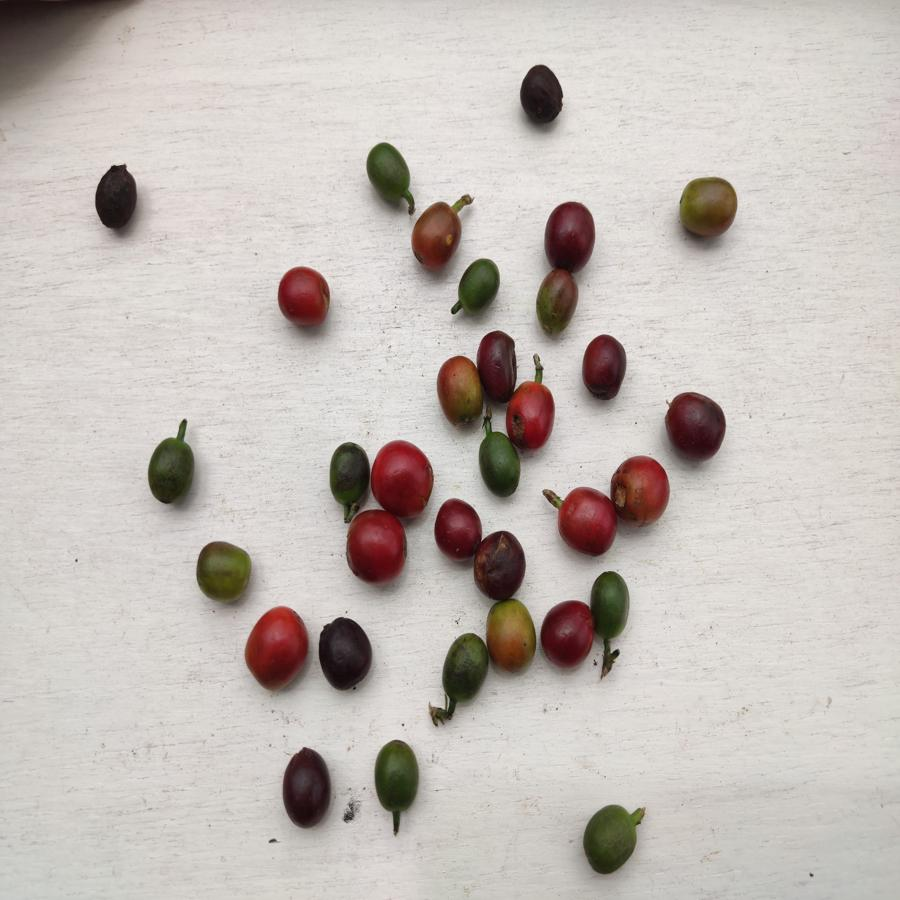Inmaduro: (579, 804, 643, 875), (370, 739, 426, 815), (360, 141, 415, 209), (441, 633, 489, 702), (148, 438, 196, 505), (590, 570, 635, 640), (476, 431, 516, 500), (456, 257, 502, 317), (328, 441, 369, 506)
Maduro: (244, 606, 310, 691), (369, 437, 434, 520), (609, 451, 672, 528), (346, 506, 408, 583), (553, 487, 619, 556), (272, 264, 335, 332), (508, 379, 559, 453)
Pinton: (679, 172, 741, 241), (193, 539, 254, 603), (487, 599, 540, 672), (411, 202, 460, 267), (437, 352, 480, 425), (533, 271, 580, 335)
Sobremaduro: (317, 614, 377, 694), (665, 391, 727, 459), (283, 745, 330, 831), (544, 203, 599, 272), (542, 599, 593, 673), (475, 531, 526, 603), (477, 327, 521, 404), (582, 331, 627, 403), (433, 496, 482, 561), (93, 167, 139, 234), (521, 63, 565, 128)
